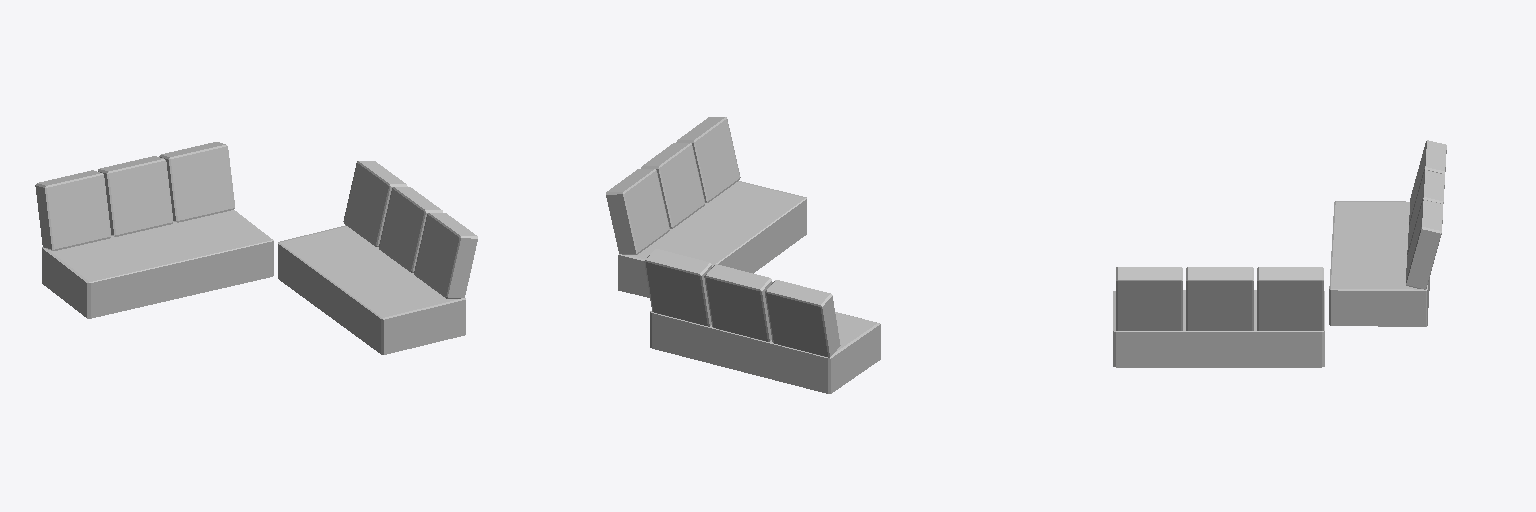
Rendered from sofas.obj.
3 views of the same model, side by side, from view 1: azimuth 30°, elevation 25°; view 2: azimuth 150°, elevation 25°; view 3: azimuth 270°, elevation 25° (orthographic).
Visible parts, largest first — view 1: Cube.001_Cube.007, Cube_Cube.002, Cube.007_Cube.010, Cube.006_Cube.009, Cube.005_Cube.008, Cube.002_Cube.004, Cube.004_Cube.006, Cube.003_Cube.005; view 2: Cube_Cube.002, Cube.001_Cube.007, Cube.007_Cube.010, Cube.004_Cube.006, Cube.006_Cube.009, Cube.005_Cube.008, Cube.003_Cube.005, Cube.002_Cube.004; view 3: Cube.001_Cube.007, Cube_Cube.002, Cube.003_Cube.005, Cube.002_Cube.004, Cube.004_Cube.006, Cube.005_Cube.008, Cube.007_Cube.010, Cube.006_Cube.009.
Part boxes in pixels (x1,y1,x2,y2): Cube.001_Cube.007: (42, 210, 273, 318); Cube_Cube.002: (278, 225, 465, 354); Cube.007_Cube.010: (35, 170, 110, 250); Cube.006_Cube.009: (98, 156, 173, 236); Cube.005_Cube.008: (159, 142, 234, 222); Cube.002_Cube.004: (414, 213, 477, 298); Cube.004_Cube.006: (343, 161, 407, 246); Cube.003_Cube.005: (379, 187, 442, 272); Cube_Cube.002: (618, 181, 806, 297); Cube.001_Cube.007: (650, 311, 880, 393); Cube.007_Cube.010: (765, 280, 840, 357); Cube.004_Cube.006: (606, 169, 669, 254); Cube.006_Cube.009: (704, 264, 772, 341); Cube.005_Cube.008: (644, 249, 711, 326); Cube.003_Cube.005: (641, 143, 704, 228); Cube.002_Cube.004: (676, 117, 740, 202); Cube.001_Cube.007: (1329, 201, 1429, 326); Cube_Cube.002: (1113, 290, 1324, 367); Cube.003_Cube.005: (1186, 267, 1253, 330); Cube.002_Cube.004: (1116, 267, 1182, 330); Cube.004_Cube.006: (1257, 267, 1323, 330); Cube.005_Cube.008: (1406, 200, 1442, 289); Cube.007_Cube.010: (1409, 140, 1446, 224); Cube.006_Cube.009: (1407, 170, 1444, 255).
Size of the model in its own units: 9.62 by 3.24 by 9.89.